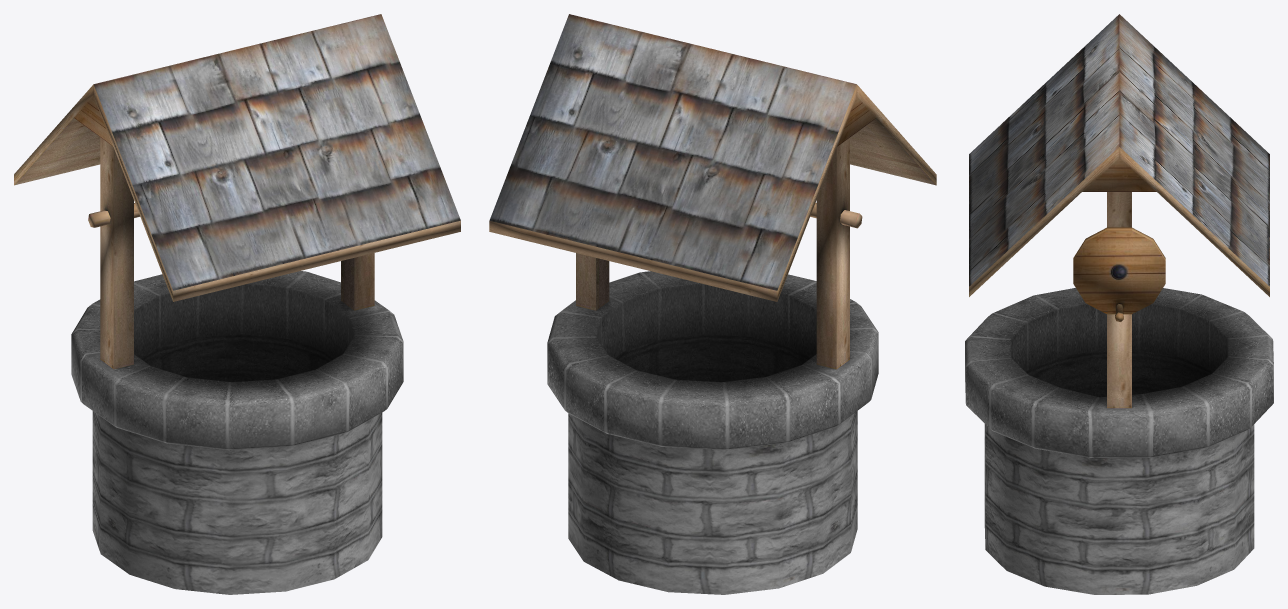
File: well.dae
3 views of the same model, side by side, from view 1: azimuth 30°, elevation 25°; view 2: azimuth 150°, elevation 25°; view 3: azimuth 270°, elevation 25° (orthographic). The views are drawn at different scales.
Parts seen in each view (by area): view 1: well_covered; view 2: well_covered; view 3: well_covered.
Part boxes in pixels (x1,y1,x2,y2): well_covered: (14, 14, 460, 594); well_covered: (489, 14, 936, 594); well_covered: (965, 14, 1273, 594).
Bounding box in the file's own units: 2.14 × 1.97 × 3.22.
Materials: 1 (1 with a texture image).
